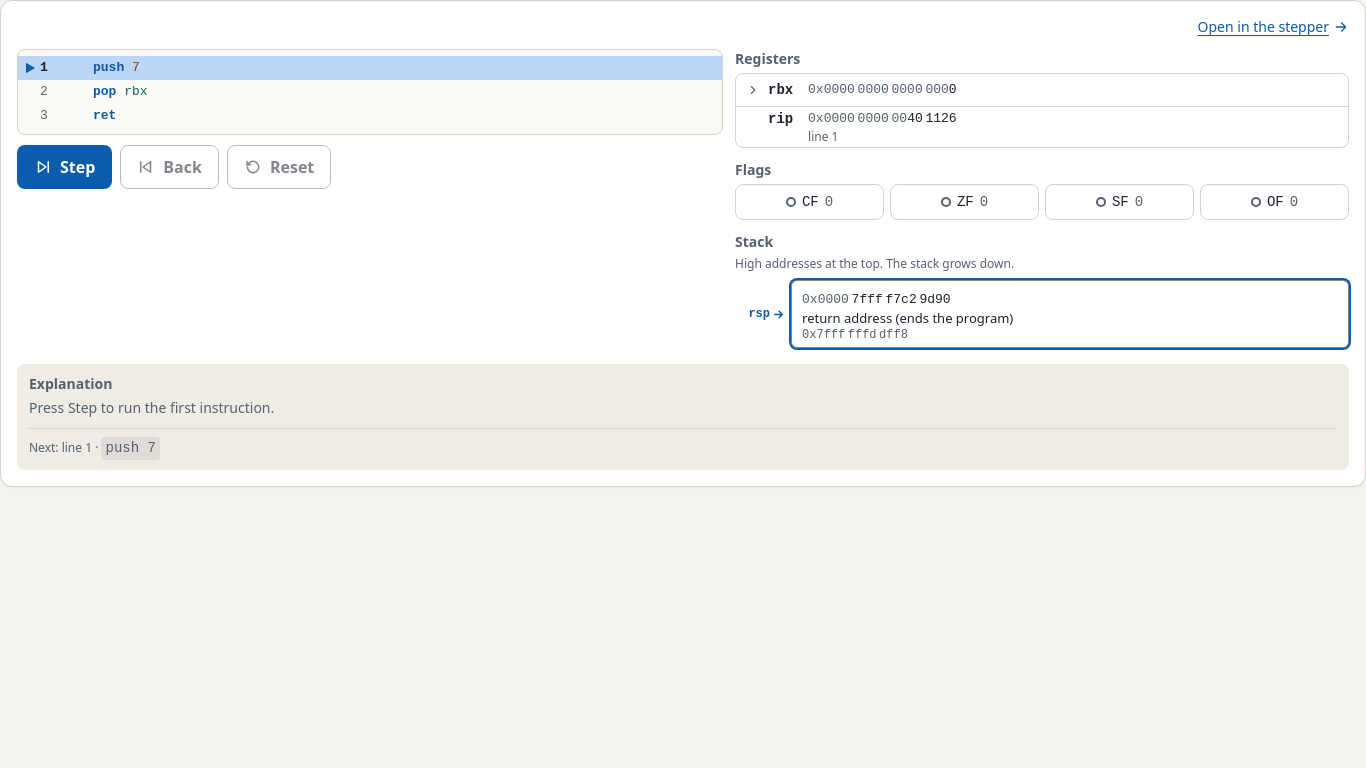
Test: MiniStepper › shows the panels it is asked for
Expected: the element "Stack" is shown, [735,232,1349,352]
Expected: the element "Flags" is shown, [735,160,1349,220]
Click the button "Step" at (65,167), box [17,145,112,189]
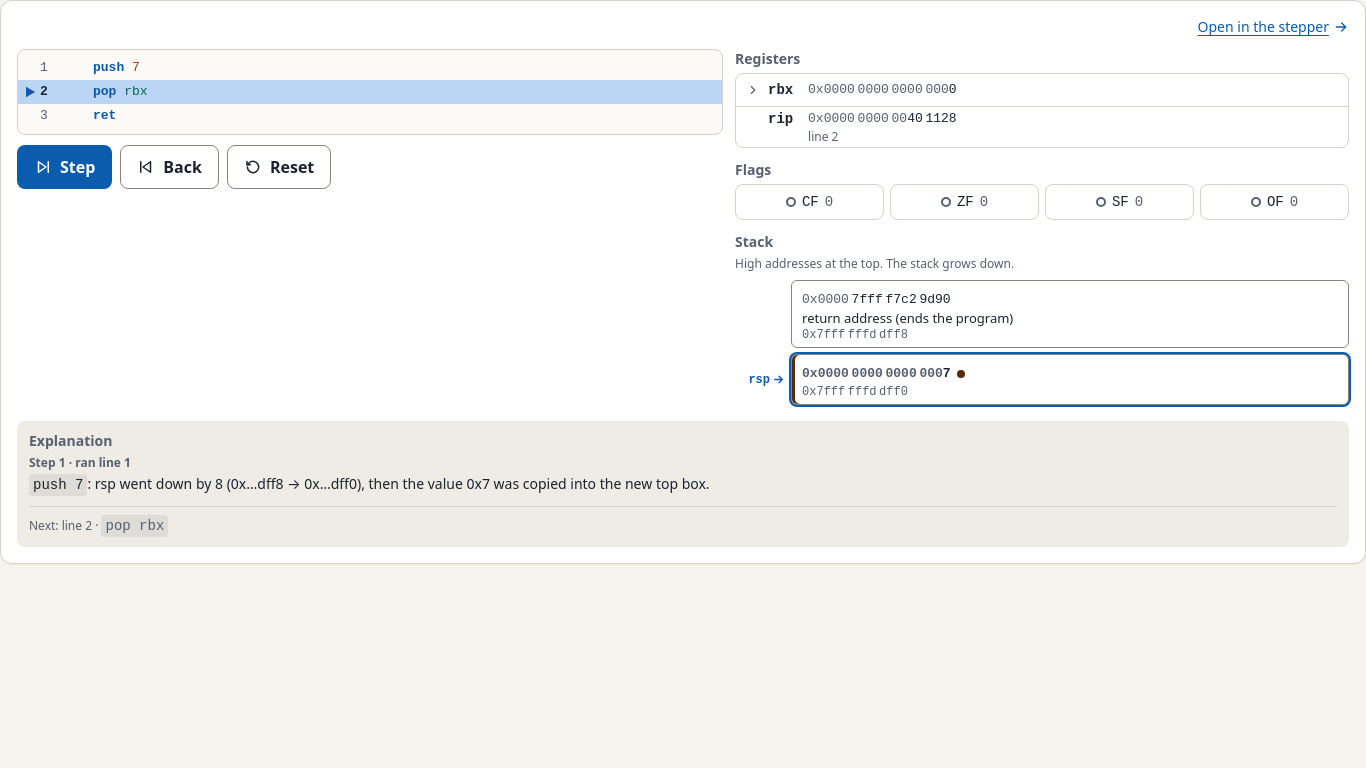
Result: the button named "rsp points here" is shown at [735,354,1349,405]
